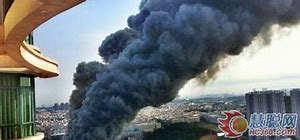smoke: (66, 1, 300, 138)
